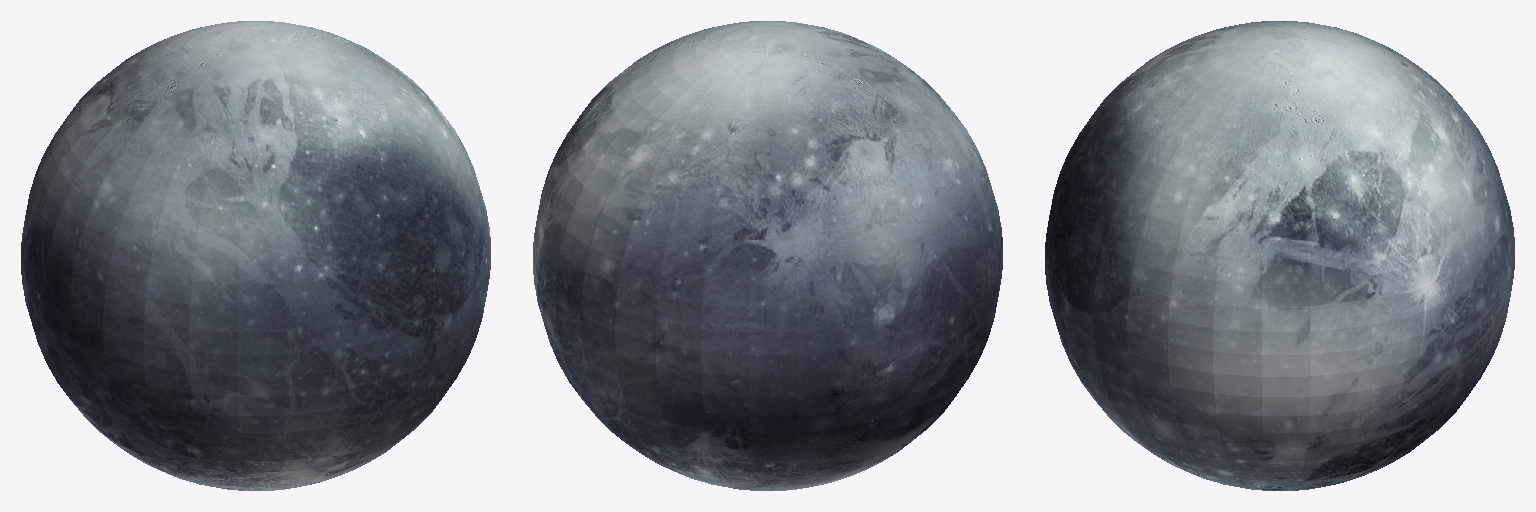
3 views of the same model, side by side, from view 1: azimuth 30°, elevation 25°; view 2: azimuth 150°, elevation 25°; view 3: azimuth 270°, elevation 25° (orthographic).
Visible parts, largest first — view 1: pSphere1; view 2: pSphere1; view 3: pSphere1.
Boxes of the visible parts, x1,y1,x2,y2 form: pSphere1: [21, 21, 490, 490]; pSphere1: [533, 21, 1002, 490]; pSphere1: [1045, 21, 1514, 490].
Size of the model in its own units: 1.99 by 2 by 2.
1 materials, 1 textured.